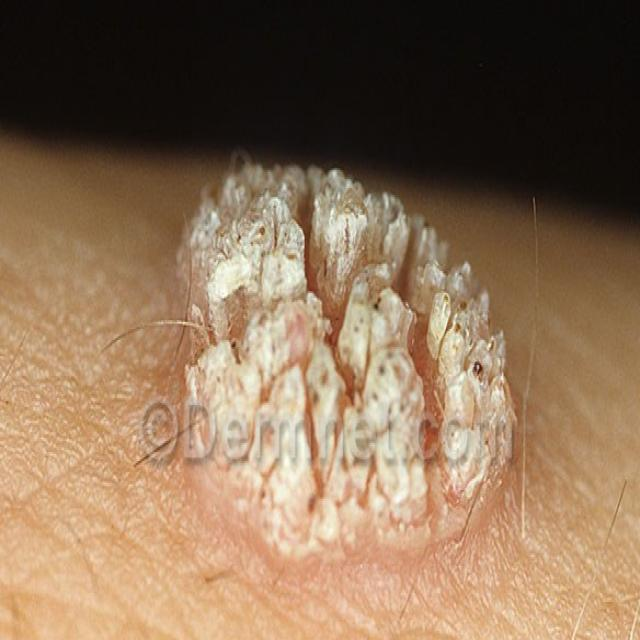Warts: (165, 137, 520, 565)
